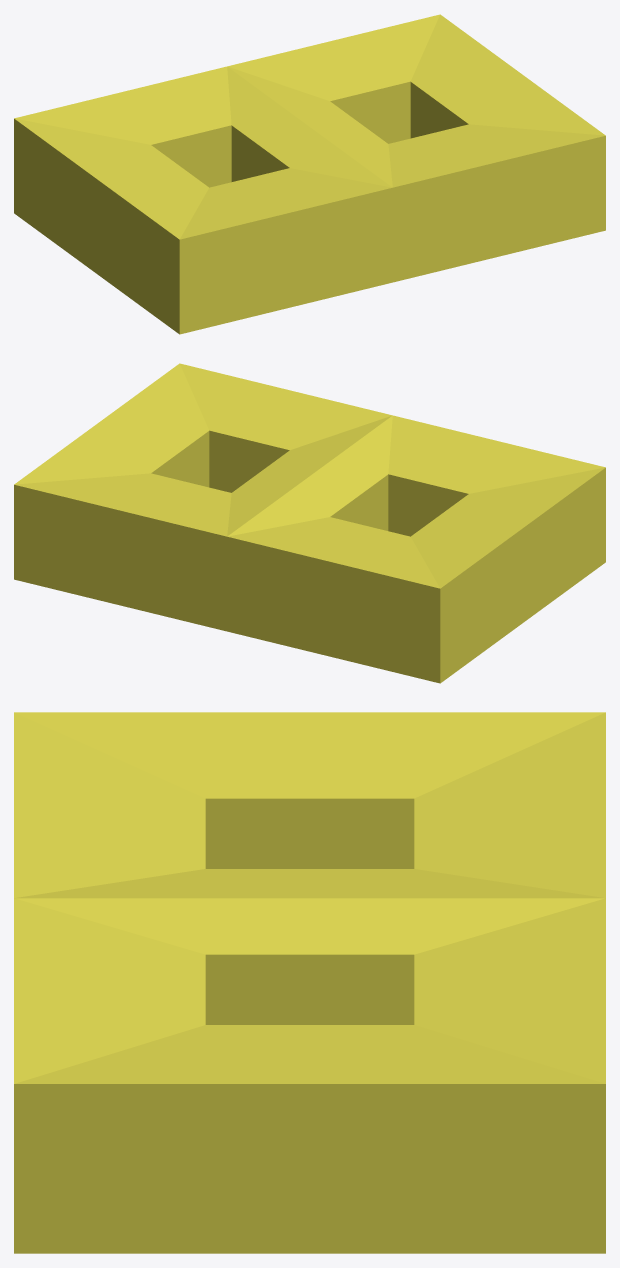
File: caseta.fbx
3 views of the same model, one above another, from view 1: azimuth 30°, elevation 25°; view 2: azimuth 150°, elevation 25°; view 3: azimuth 270°, elevation 25° (orthographic). The views are drawn at different scales.
Visible parts, largest first — view 1: Cube; view 2: Cube; view 3: Cube.
Part boxes in pixels (x1,y1,x2,y2): Cube: (14, 14, 605, 334); Cube: (14, 363, 605, 683); Cube: (14, 712, 605, 1253).
Size of the model in its own units: 200 by 42.54 by 135.
